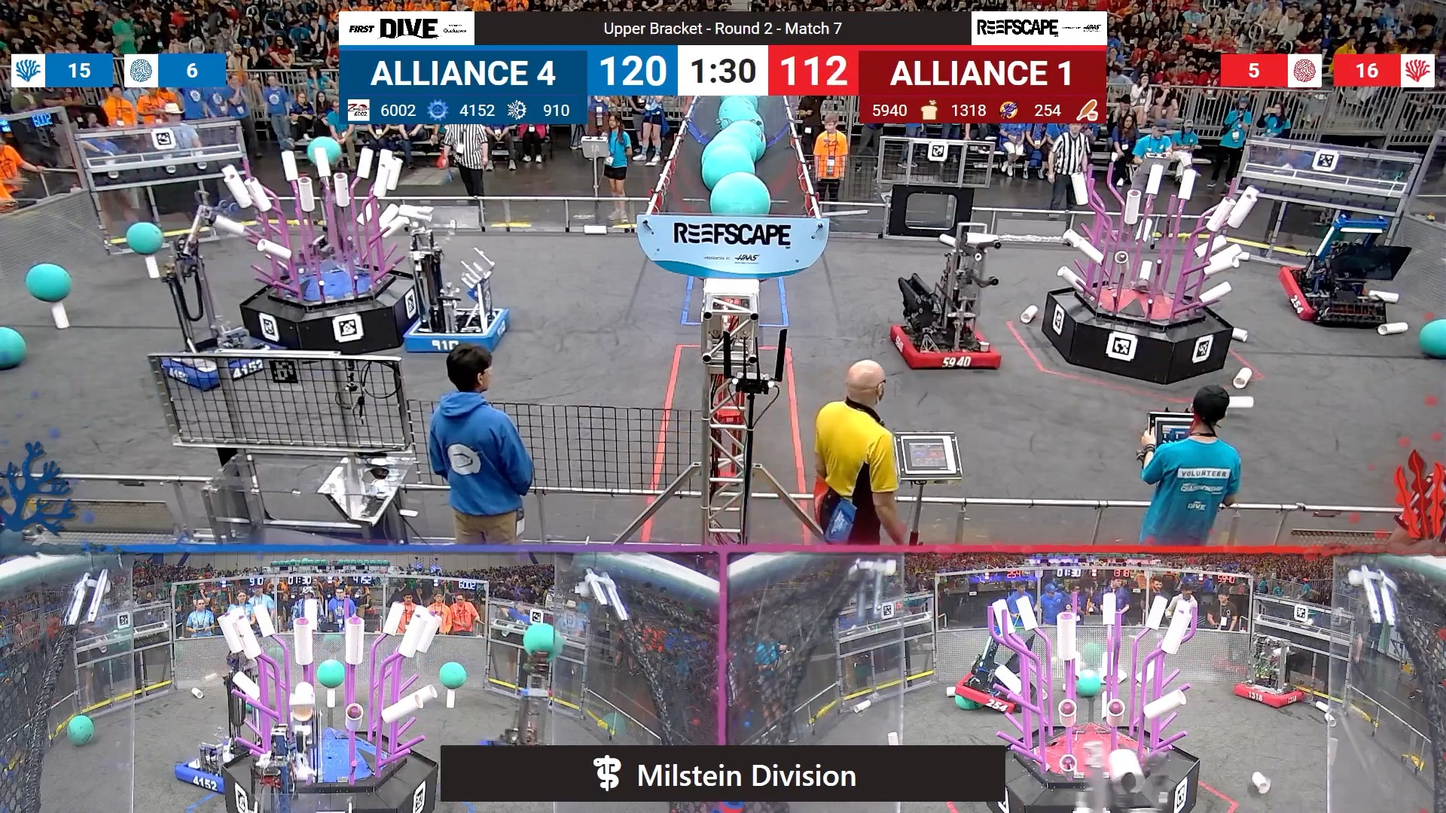bumpers: (886, 319, 1014, 382), (1267, 269, 1387, 331), (399, 305, 513, 359), (158, 341, 277, 392), (169, 743, 249, 792), (954, 671, 1037, 718), (1225, 679, 1309, 710)
